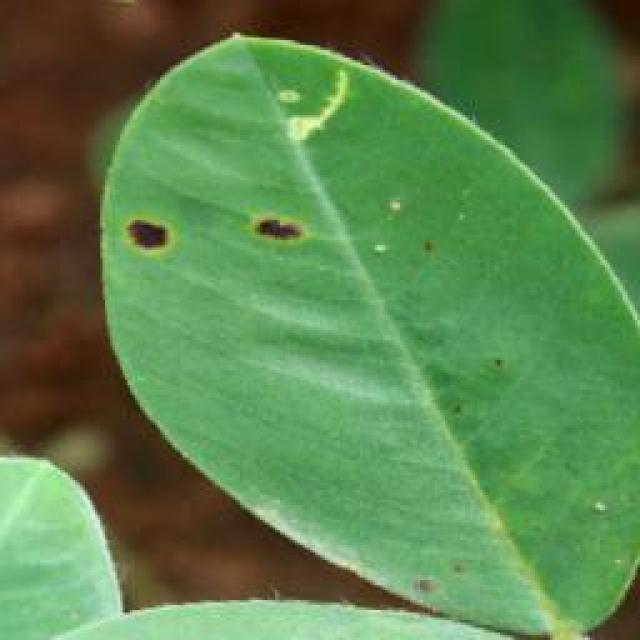Sigatoka: (244, 178, 318, 276), (115, 195, 191, 266), (398, 202, 460, 288), (395, 564, 468, 636), (479, 342, 521, 391)
